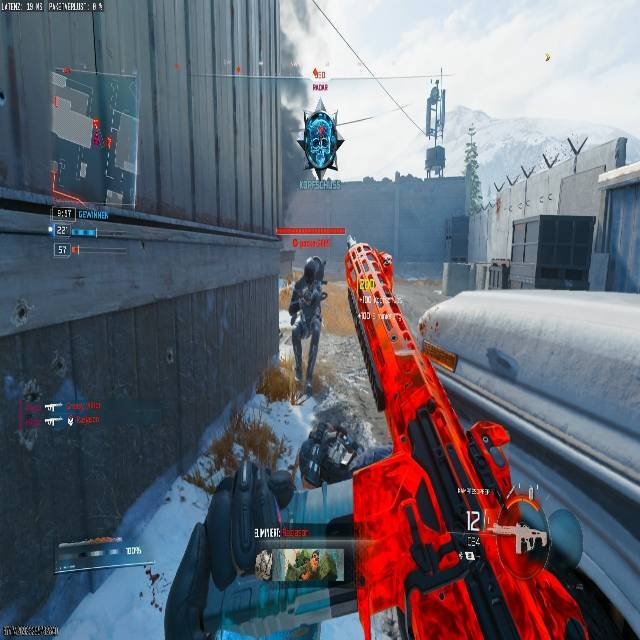head: (257, 361, 299, 403), (303, 256, 323, 282)
player: (180, 362, 365, 640), (282, 257, 328, 390), (298, 105, 342, 178)
